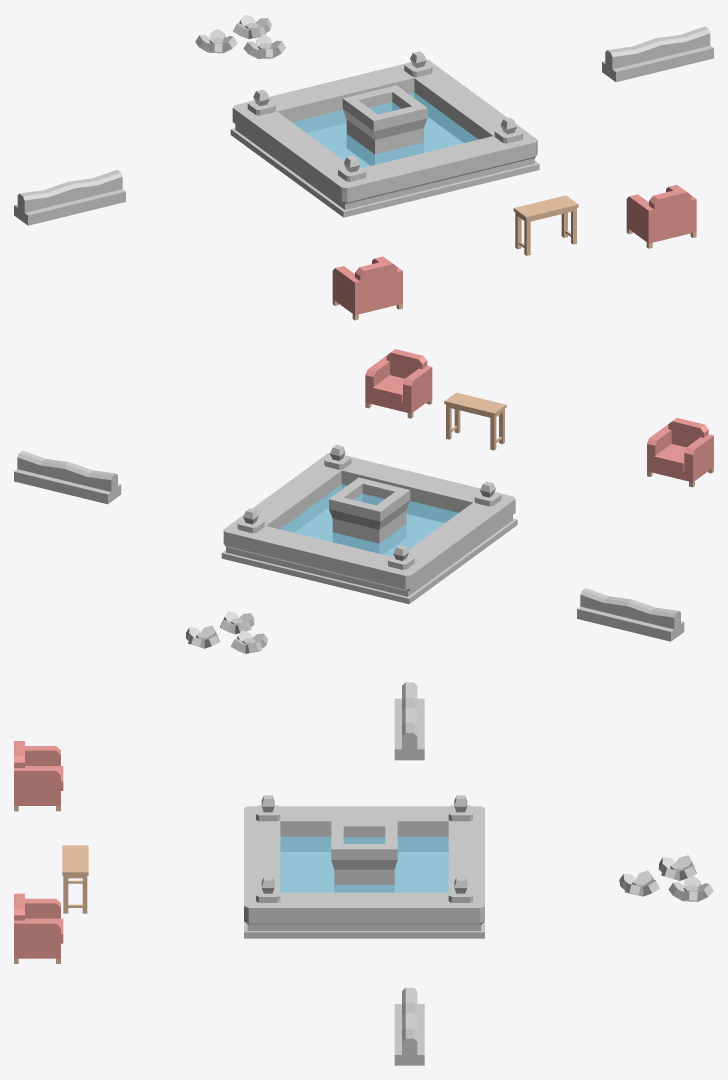
Rendered from combo-quiet-garden.glb.
The picture shows the model from 3 angles, top to bottom: view 1: azimuth 30°, elevation 25°; view 2: azimuth 150°, elevation 25°; view 3: azimuth 270°, elevation 25°; orthographic projection. The views are drawn at different scales.
Visible parts, largest first — view 1: asset-014_0, asset-014_1, asset-053_2, asset-053_3, asset-029_4, asset-029_6, asset-052_10, asset-030_8; view 2: asset-014_0, asset-014_1, asset-029_6, asset-029_4, asset-053_2, asset-053_3, asset-052_10, asset-030_8; view 3: asset-014_0, asset-014_1, asset-029_6, asset-029_4, asset-052_10, asset-053_2, asset-053_3, asset-030_8.
Part boxes in pixels (x1,y1,x2,y2): asset-014_0: (230, 51, 539, 217); asset-014_1: (292, 92, 477, 167); asset-053_2: (14, 170, 125, 225); asset-053_3: (602, 26, 713, 82); asset-029_4: (332, 256, 402, 315); asset-029_6: (626, 184, 696, 243); asset-052_10: (195, 14, 285, 58); asset-030_8: (513, 195, 578, 255); asset-014_0: (221, 445, 517, 604); asset-014_1: (280, 484, 458, 556); asset-029_6: (365, 349, 432, 413); asset-029_4: (647, 418, 713, 482); asset-053_2: (577, 588, 684, 641); asset-053_3: (14, 450, 121, 504); asset-052_10: (186, 611, 267, 653); asset-030_8: (444, 392, 506, 450); asset-014_0: (244, 795, 484, 938); asset-014_1: (280, 836, 448, 892); asset-029_6: (14, 893, 63, 958); asset-029_4: (14, 741, 63, 805); asset-052_10: (619, 855, 713, 901); asset-053_2: (394, 682, 424, 760); asset-053_3: (394, 987, 424, 1065); asset-030_8: (62, 845, 88, 913).
Bounding box in the file's own units: 7 × 0.48 × 5.81.
